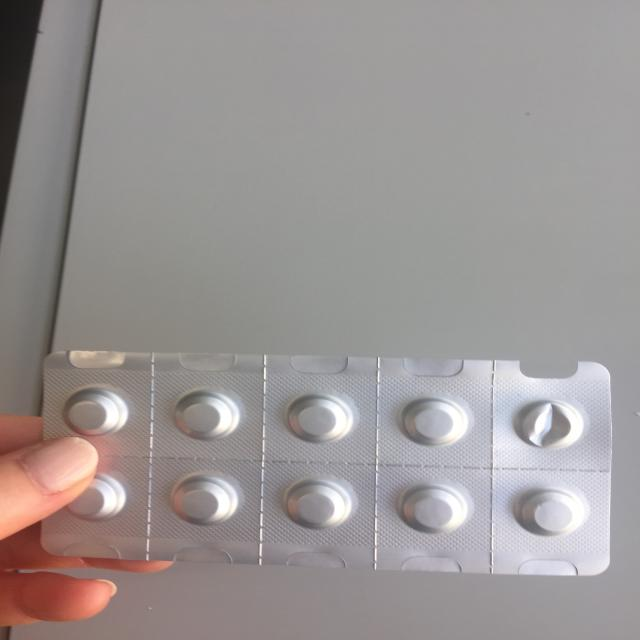Empty: (508, 395, 590, 453)
Pill: (278, 391, 359, 448), (165, 471, 243, 528), (168, 388, 245, 445), (280, 476, 358, 532), (394, 481, 473, 536), (515, 484, 590, 540), (395, 396, 474, 449), (58, 384, 130, 440), (58, 472, 128, 524)
